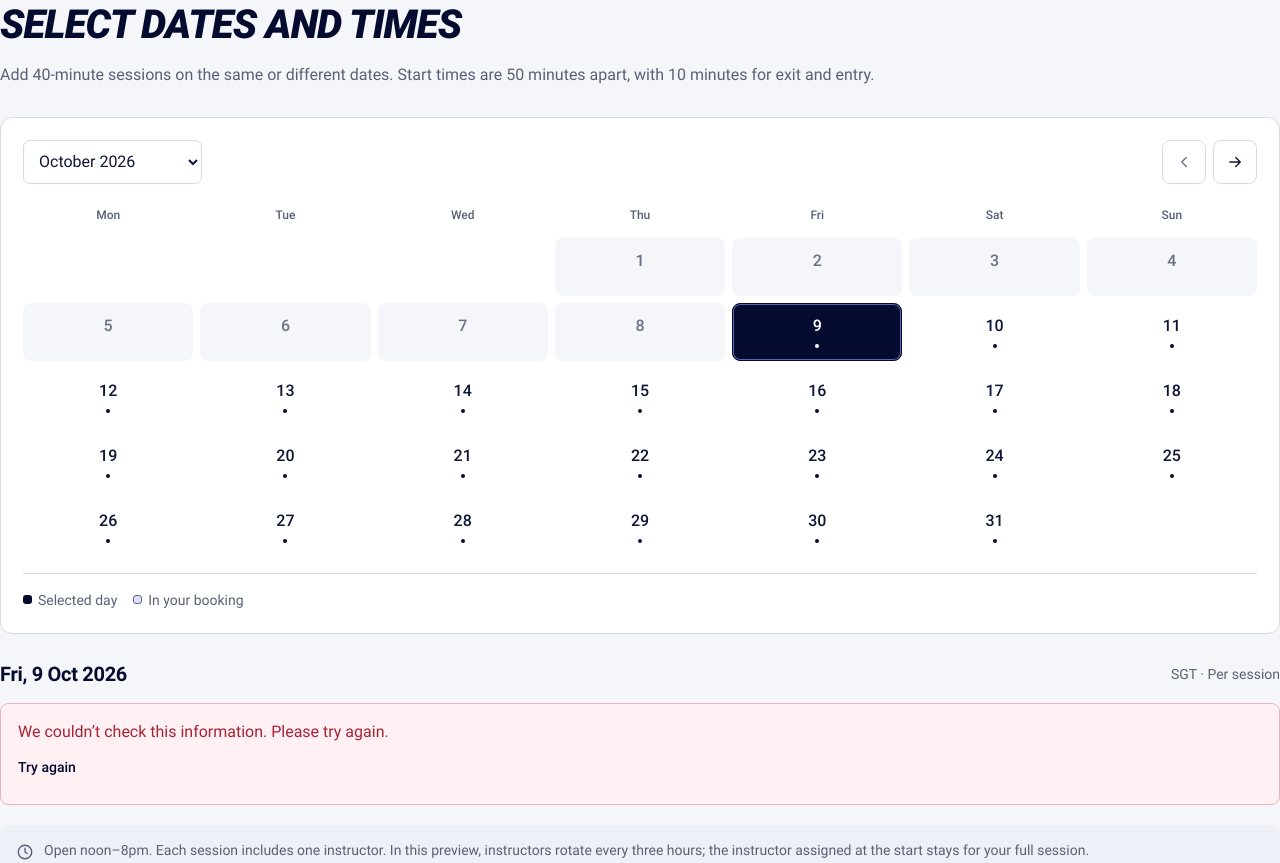
Test case: malformed availability is displayed as failure while valid empty availability is an empty day
expect the message shows "couldn’t check this information": met, box x1=18 y1=722 x2=389 y2=741
expect the text "No times on this day." is not shown: met
Click the button "Try again".
click(47, 767)  # box x1=18 y1=745 x2=76 y2=789
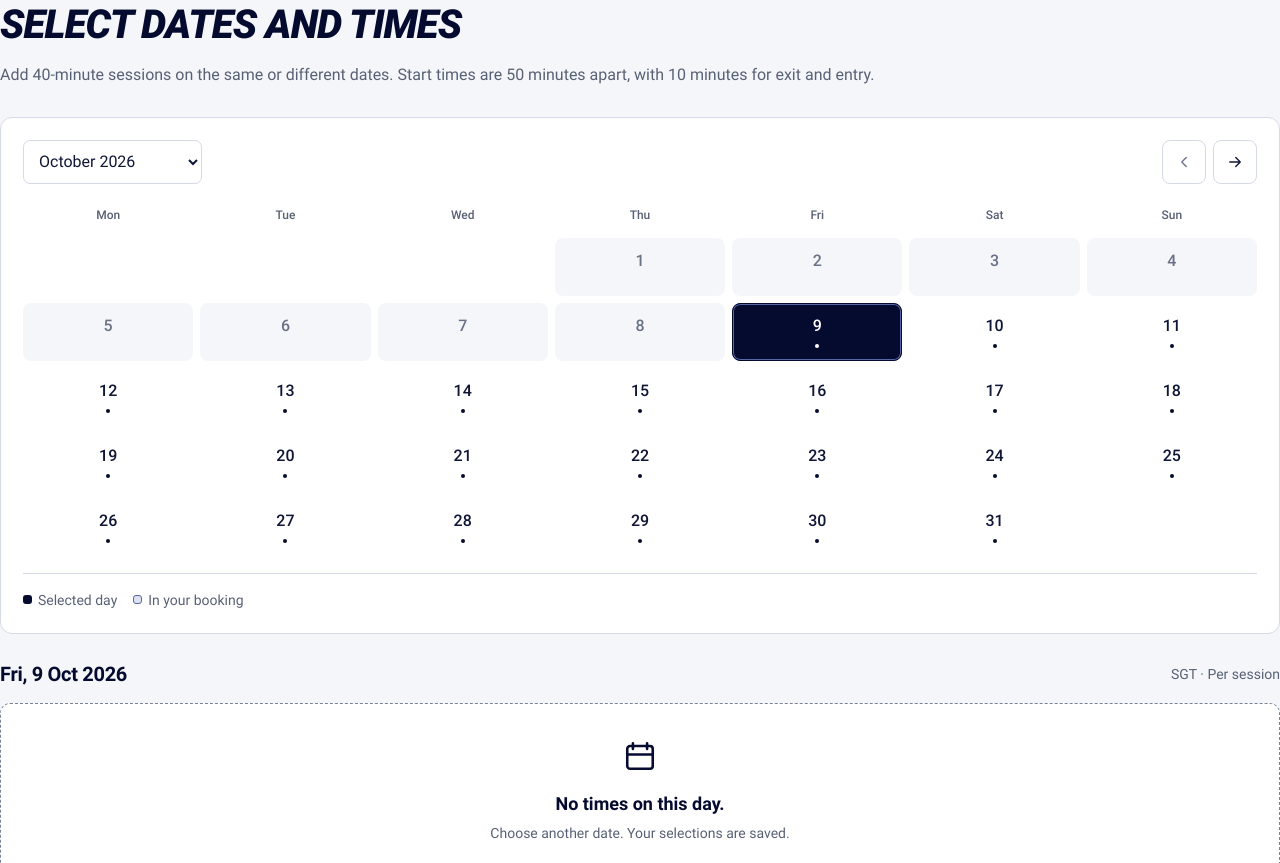
expect the heading "No times on this day." is shown: met, box x1=555 y1=793 x2=724 y2=814
